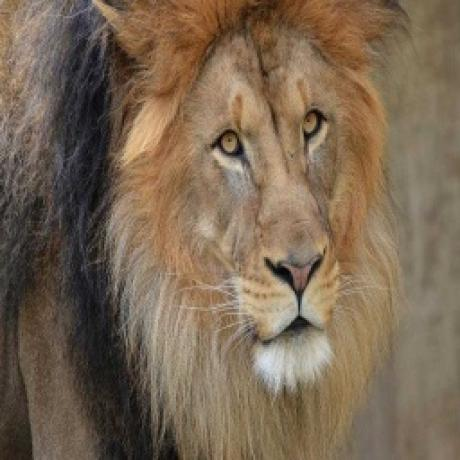Lion: (0, 0, 412, 460)
